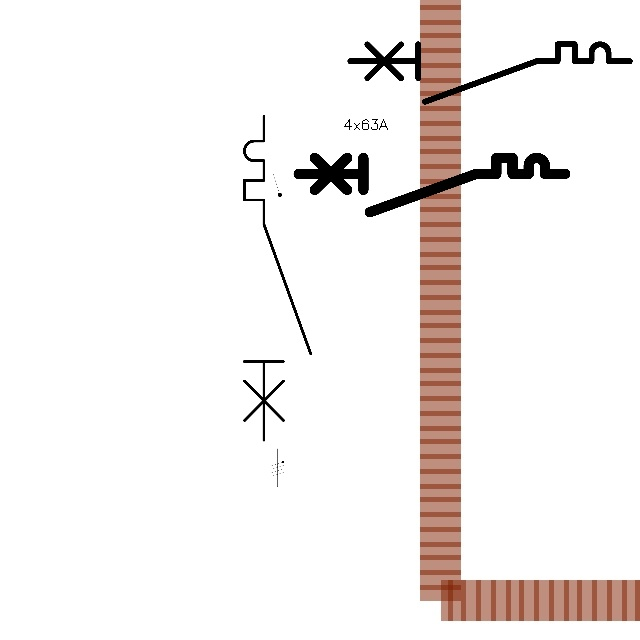interruptor_termomagnetico: (236, 108, 319, 448), (343, 37, 637, 109), (291, 151, 571, 219)
